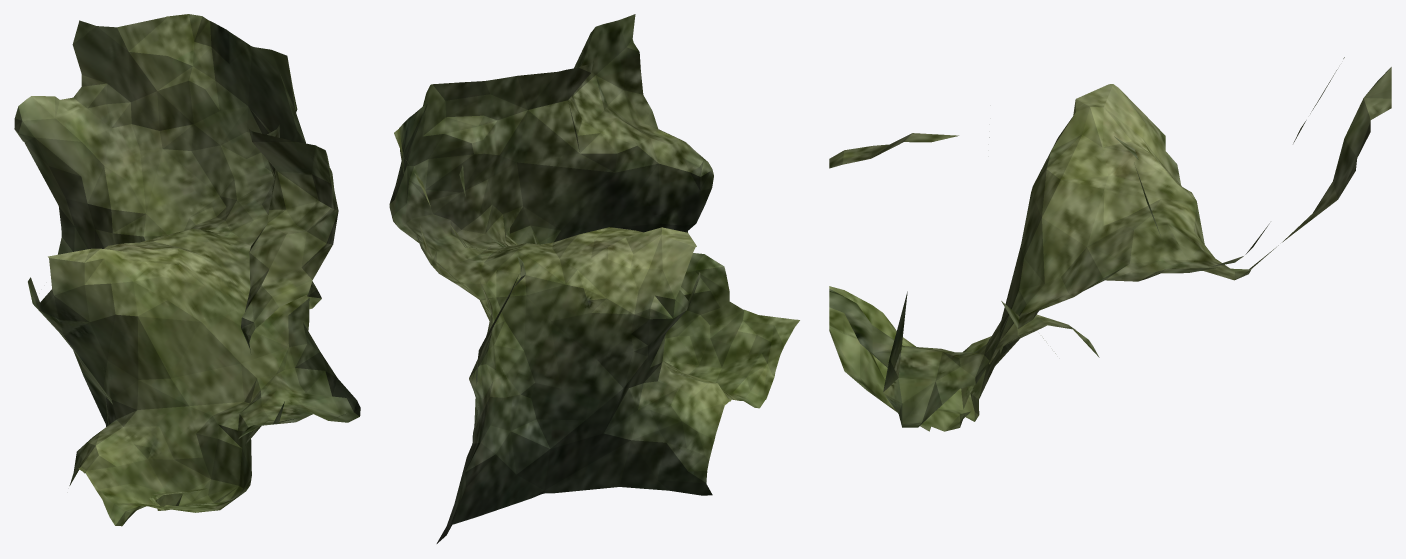
3 renders of one model, left to right at view 1: azimuth 30°, elevation 25°; view 2: azimuth 150°, elevation 25°; view 3: azimuth 270°, elevation 25°, orthographic. The views are drawn at different scales.
Bounding box in the file's own units: 2.16 × 2.95 × 2.95.
4 materials, 4 textured.
